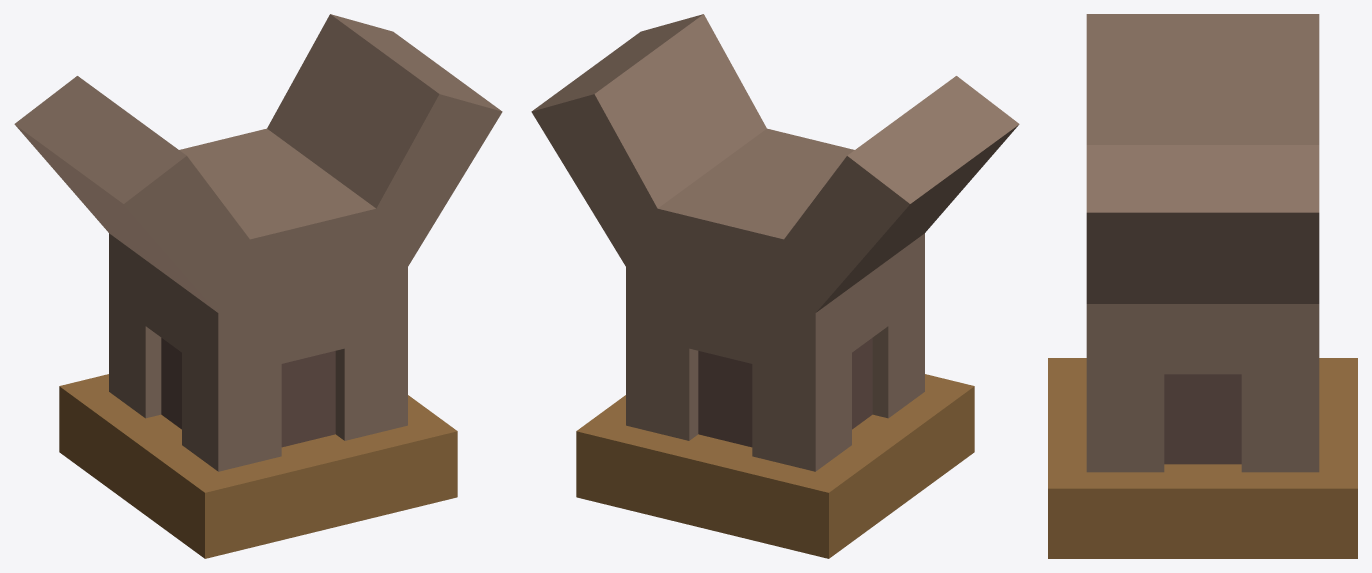
Rendered from shaft-stand.glb.
3 renders of one model, left to right at view 1: azimuth 30°, elevation 25°; view 2: azimuth 150°, elevation 25°; view 3: azimuth 270°, elevation 25°, orthographic. The views are drawn at different scales.
Visible parts, largest first — view 1: 158-stand; view 2: 158-stand; view 3: 158-stand.
Part boxes in pixels (x1,y1,x2,y2): 158-stand: [14, 14, 502, 558]; 158-stand: [531, 14, 1019, 558]; 158-stand: [1048, 14, 1357, 558].
Bounding box in the file's own units: 0.6 × 0.5899 × 0.4.
Materials: 1 (1 with a texture image).
